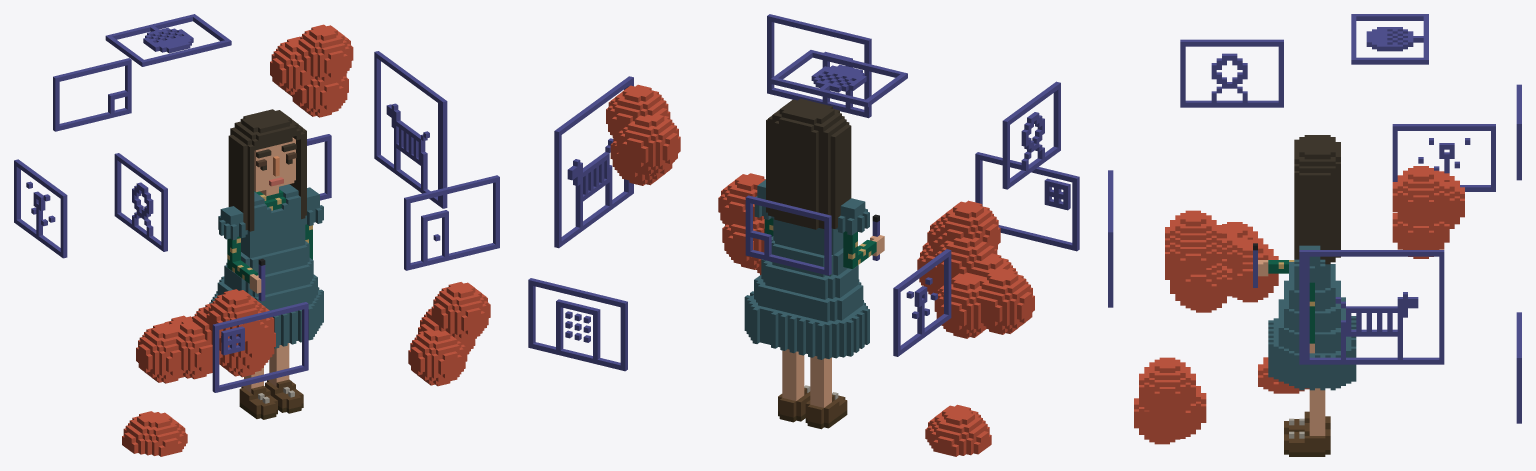
File: alja.gltf
3 renders of one model, left to right at view 1: azimuth 30°, elevation 25°; view 2: azimuth 150°, elevation 25°; view 3: azimuth 270°, elevation 25°, orthographic. The views are drawn at different scales.
Visible parts, largest first — view 1: new.vox-1; view 2: new.vox-1; view 3: new.vox-1.
Boxes of the visible parts, x1,y1,x2,y2 form: new.vox-1: (14,14,499,456); new.vox-1: (528,14,1079,456); new.vox-1: (1108,14,1521,456).
Size of the model in its own units: 8 by 8 by 8.
Materials: 1 (1 with a texture image).
